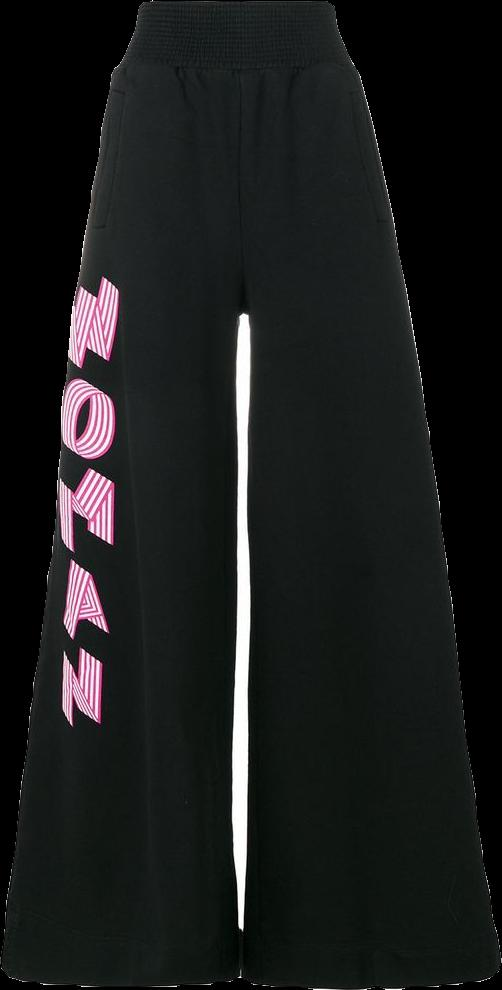Pantleg: (244, 3, 499, 987), (3, 0, 251, 984)
